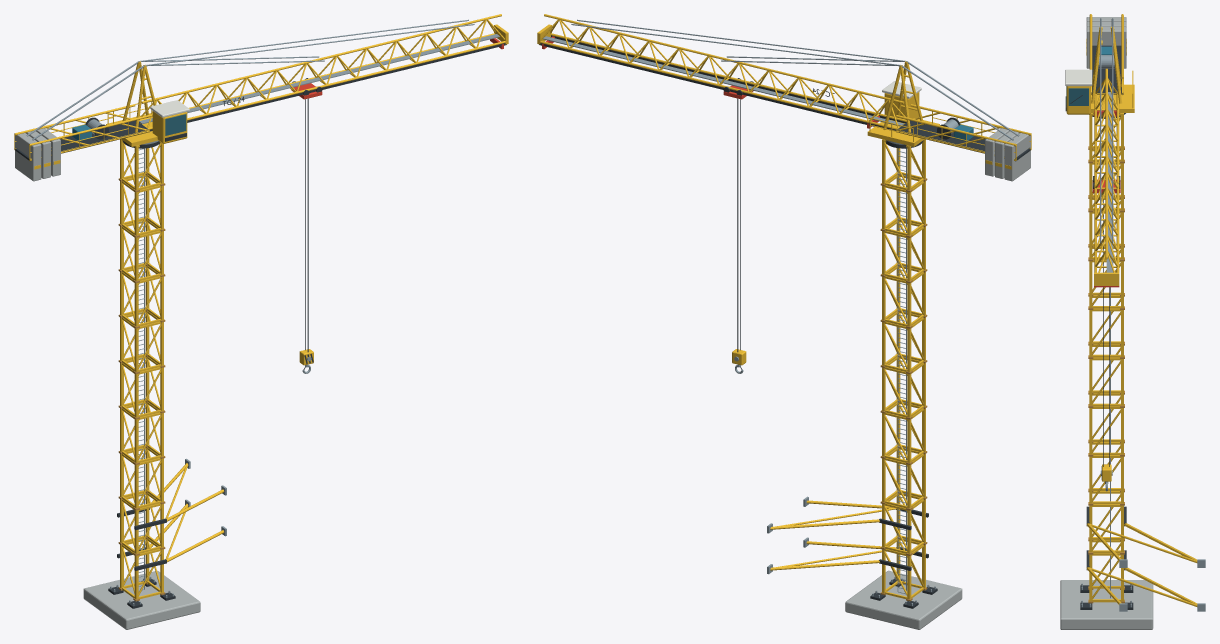
The model's file is tower-crane.glb.
3 views of the same model, side by side, from view 1: azimuth 30°, elevation 25°; view 2: azimuth 150°, elevation 25°; view 3: azimuth 270°, elevation 25° (orthographic). The views are drawn at different scales.
Visible parts, largest first — view 1: ConcreteFoundation, CounterweightSlab.002, TrolleyTrack; view 2: ConcreteFoundation, CounterweightSlab.002, TrolleyTrack.001, TrolleyTrack; view 3: ConcreteFoundation, CounterweightSlab, PlatformDeck, CabRoof, FrontTieRod.003, FrontTieRod.001, CabShell, CabFrontGlass, JibTip, AttachmentDiagonal, AttachmentDiagonal.001, AttachmentRod.003 (+4 smaller).
Part boxes in pixels (<box>): ConcreteFoundation: <box>83,570,200,629</box>; CounterweightSlab.002: <box>15,133,41,181</box>; TrolleyTrack: <box>150,43,506,131</box>; ConcreteFoundation: <box>845,570,962,629</box>; CounterweightSlab.002: <box>1004,133,1030,181</box>; TrolleyTrack.001: <box>539,43,895,130</box>; TrolleyTrack: <box>550,35,906,123</box>; ConcreteFoundation: <box>1060,580,1153,629</box>; CounterweightSlab: <box>1086,27,1126,68</box>; PlatformDeck: <box>1091,84,1134,112</box>; CabRoof: <box>1065,69,1092,86</box>; FrontTieRod.003: <box>1112,27,1113,243</box>; FrontTieRod.001: <box>1100,27,1101,242</box>; CabShell: <box>1066,86,1090,114</box>; CabFrontGlass: <box>1068,88,1088,105</box>; JibTip: <box>1094,272,1119,285</box>; AttachmentDiagonal: <box>1090,567,1197,606</box>; AttachmentDiagonal.001: <box>1090,524,1197,562</box>; AttachmentRod.003: <box>1124,523,1197,560</box>.
Bounding box in the file's own units: 32.13 × 34.65 × 7.82.
